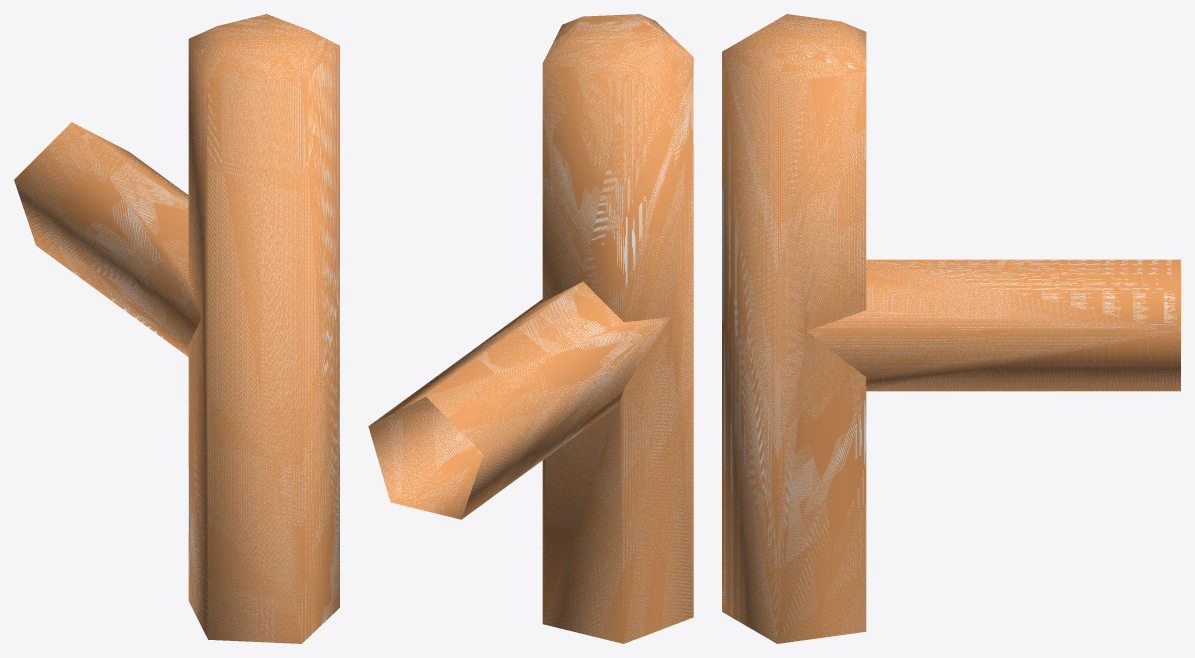
The model's file is original-43.obj.
3 renders of one model, left to right at view 1: azimuth 30°, elevation 25°; view 2: azimuth 150°, elevation 25°; view 3: azimuth 270°, elevation 25°, orthographic.
Parts seen in each view (by area): view 1: BPe23r1/BPe23r/mesh24/mesh24-geometry#mesh24-geometry; view 2: BPe23r1/BPe23r/mesh24/mesh24-geometry#mesh24-geometry; view 3: BPe23r1/BPe23r/mesh24/mesh24-geometry#mesh24-geometry.
Part boxes in pixels (box(x1,y1,x2,y2)): BPe23r1/BPe23r/mesh24/mesh24-geometry#mesh24-geometry: box(14, 14, 339, 643); BPe23r1/BPe23r/mesh24/mesh24-geometry#mesh24-geometry: box(368, 14, 693, 643); BPe23r1/BPe23r/mesh24/mesh24-geometry#mesh24-geometry: box(722, 14, 1180, 643).
Bounding box in the file's own units: 0.00972 × 0.0409 × 0.0294.
